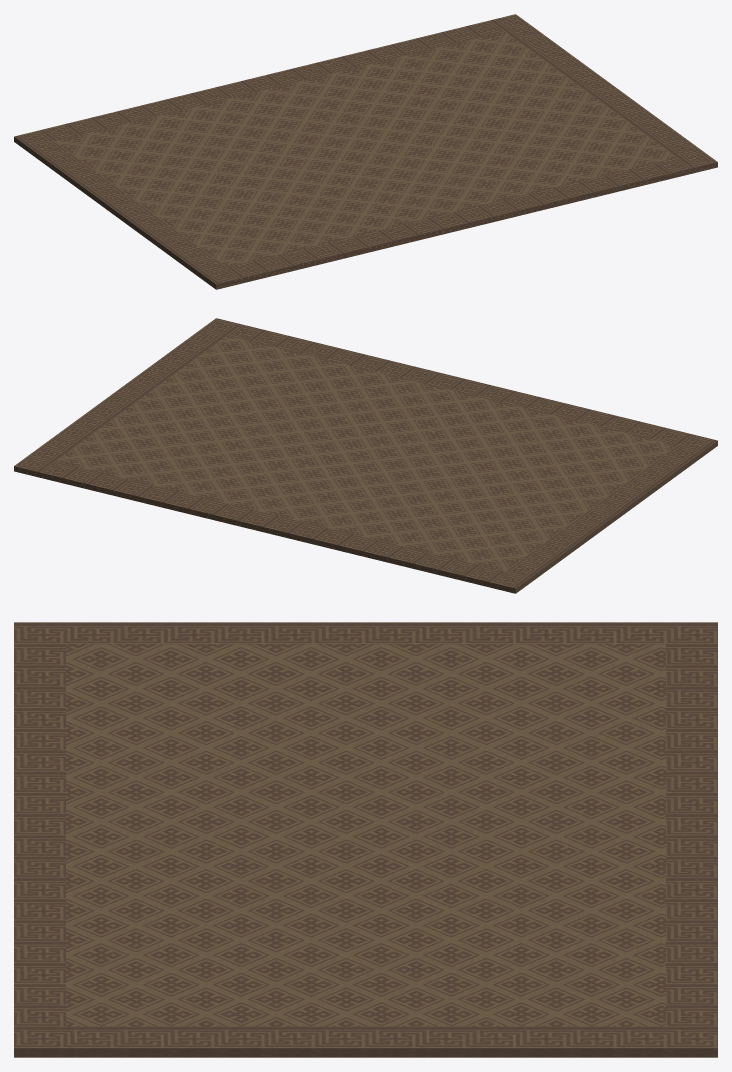
Rendered from SM_PattenFloor01D.fbx.
3 views of the same model, one above another, from view 1: azimuth 30°, elevation 25°; view 2: azimuth 150°, elevation 25°; view 3: azimuth 270°, elevation 25° (orthographic). The views are drawn at different scales.
Parts seen in each view (by area): view 1: SM_PattenFloor01D; view 2: SM_PattenFloor01D; view 3: SM_PattenFloor01D.
Part boxes in pixels (x1,y1,x2,y2): SM_PattenFloor01D: [14, 14, 717, 289]; SM_PattenFloor01D: [14, 318, 717, 593]; SM_PattenFloor01D: [14, 622, 717, 1057].
Bounding box in the file's own units: 896 × 626 × 9.
